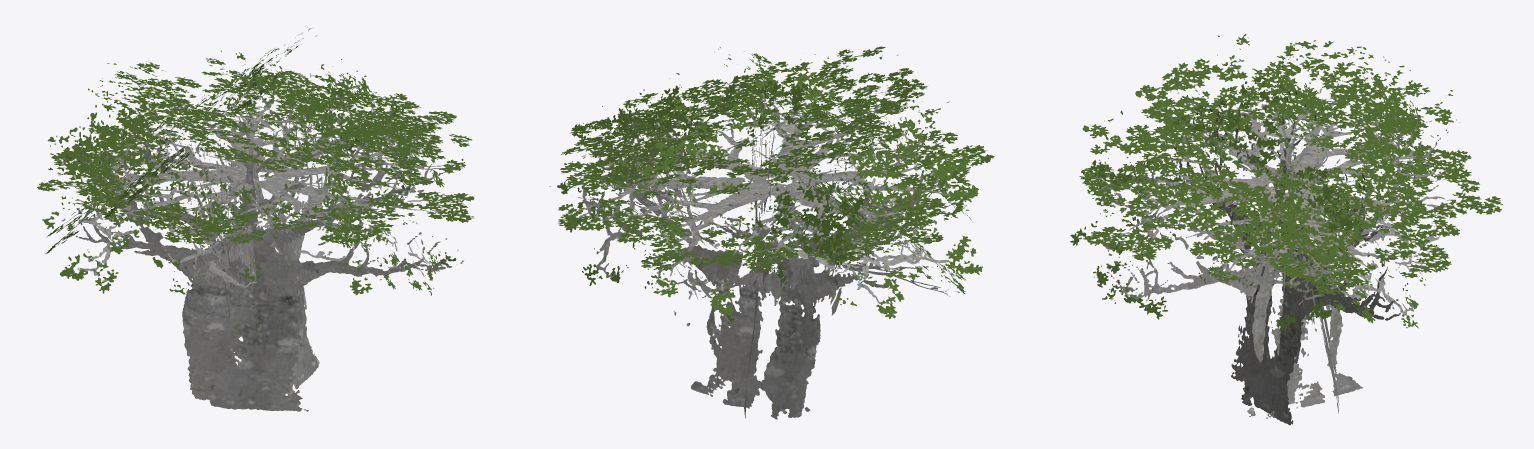
File: tree-1-2.glb
The picture shows the model from 3 angles, left to right: view 1: azimuth 30°, elevation 25°; view 2: azimuth 150°, elevation 25°; view 3: azimuth 270°, elevation 25°; orthographic projection.
Visible parts, largest first — view 1: lod2; view 2: lod2; view 3: lod2.
Boxes of the visible parts, <box> form: lod2: <box>37,27,474,411</box>; lod2: <box>549,46,994,419</box>; lod2: <box>1070,34,1502,425</box>.
Size of the model in its own units: 23.1 by 18.76 by 21.96.
1 material, 1 textured.
